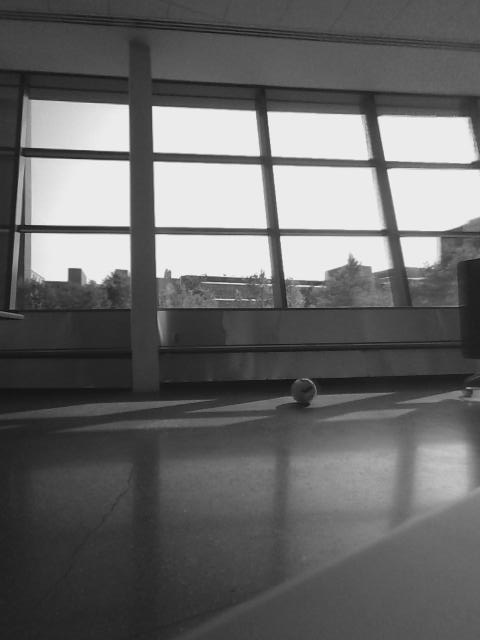ball: (288, 374, 319, 406)
